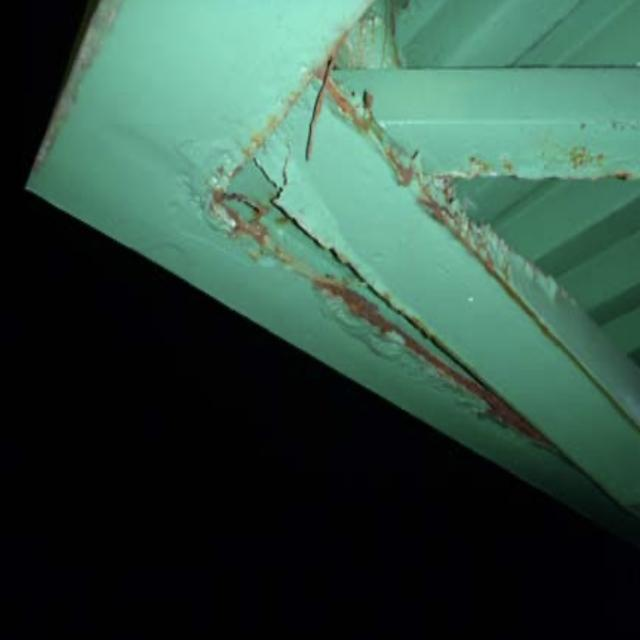corrosion: (217, 88, 526, 433)
